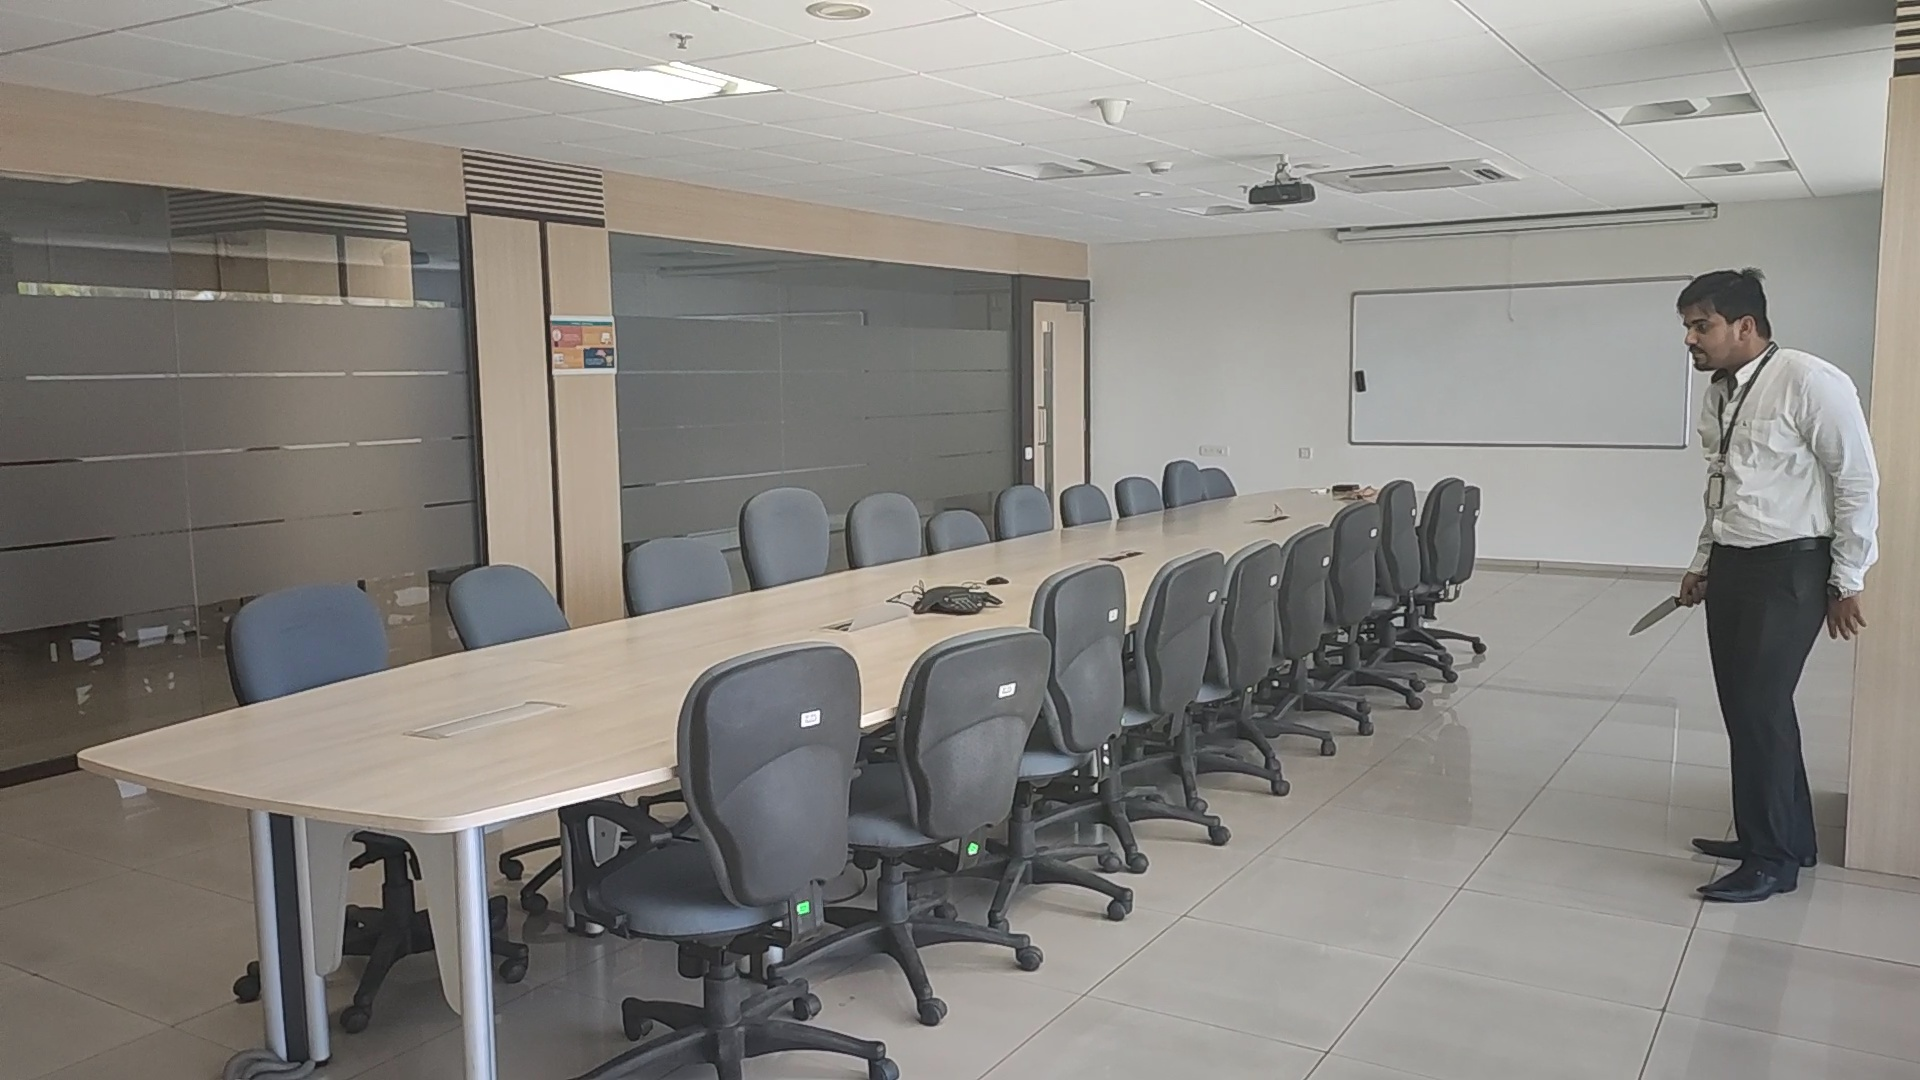knife: (1629, 595, 1679, 636)
